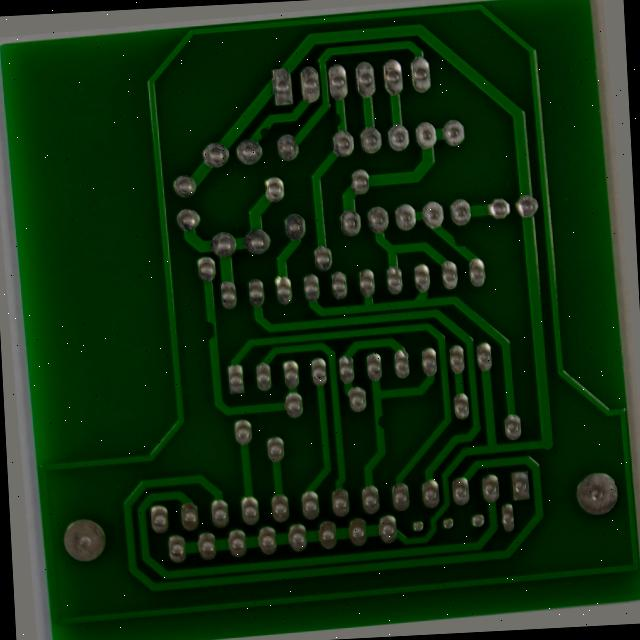mouse_bite: (199, 315, 218, 340), (369, 416, 389, 439), (455, 235, 476, 255), (259, 116, 279, 134), (339, 104, 357, 121)
